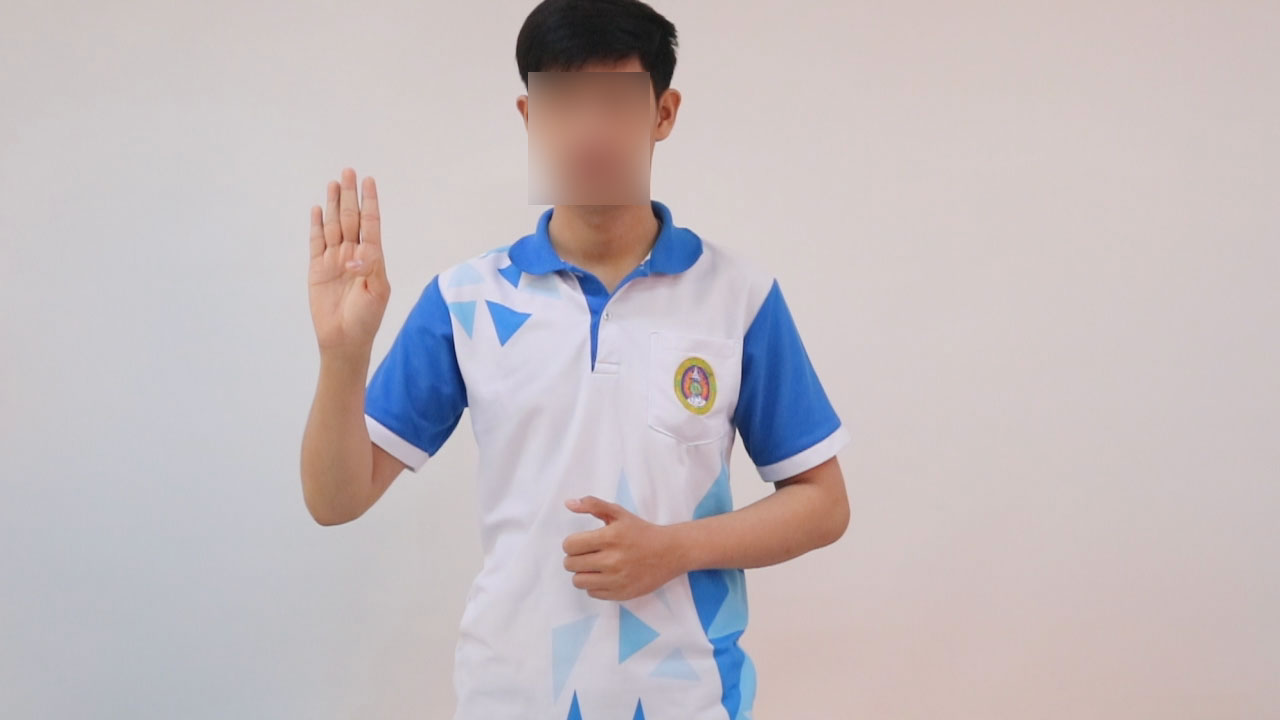bor: (292, 150, 407, 382)
